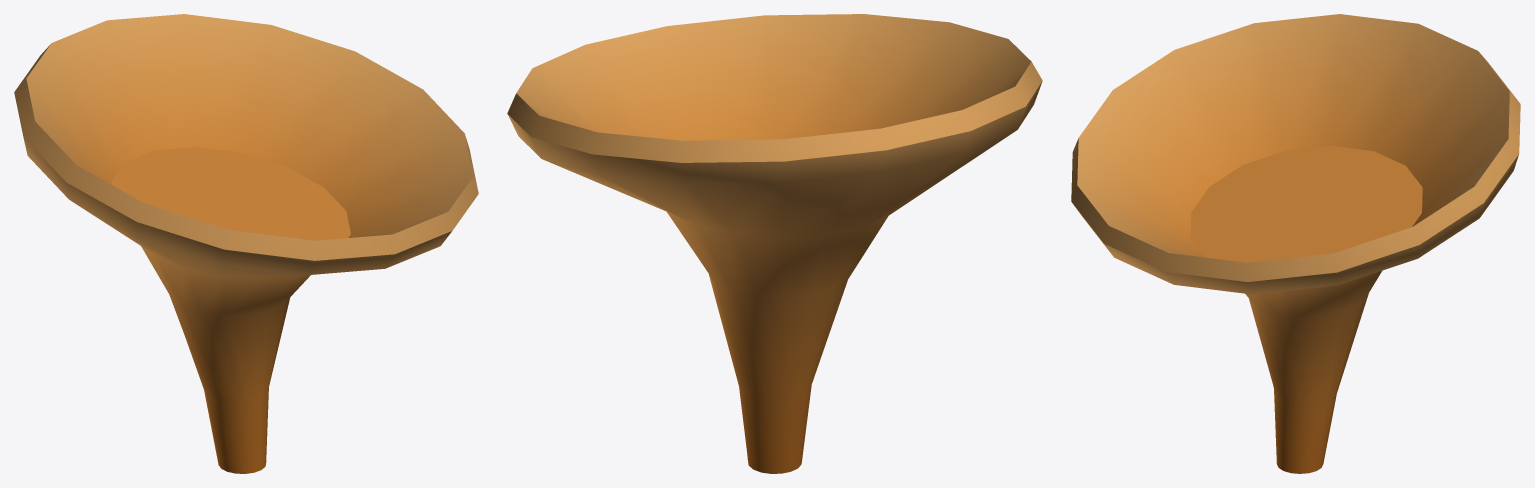
Rendered from Mushoom_02.fbx.
The picture shows the model from 3 angles, left to right: view 1: azimuth 30°, elevation 25°; view 2: azimuth 150°, elevation 25°; view 3: azimuth 270°, elevation 25°; orthographic projection. The views are drawn at different scales.
Visible parts, largest first — view 1: Mushoom_02_LOD0; view 2: Mushoom_02_LOD0; view 3: Mushoom_02_LOD0.
Boxes of the visible parts, left/top/right/bottom form: Mushoom_02_LOD0: left=14, top=14, right=478, bottom=473; Mushoom_02_LOD0: left=507, top=14, right=1042, bottom=473; Mushoom_02_LOD0: left=1071, top=14, right=1520, bottom=473.
Size of what is drawn, in the model's own units: 0.1242 by 0.1117 by 0.1239.
